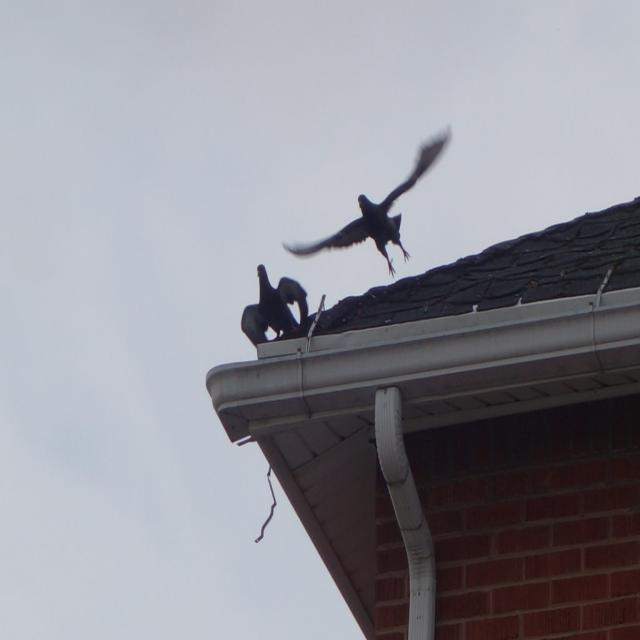bird: (281, 125, 453, 277), (256, 264, 310, 338)
